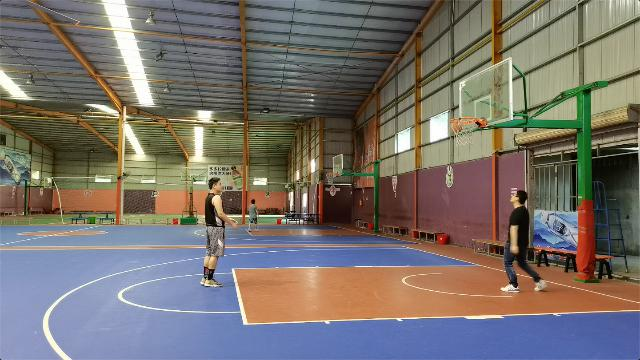ball: (450, 119, 464, 131)
basket: (449, 116, 477, 145)
